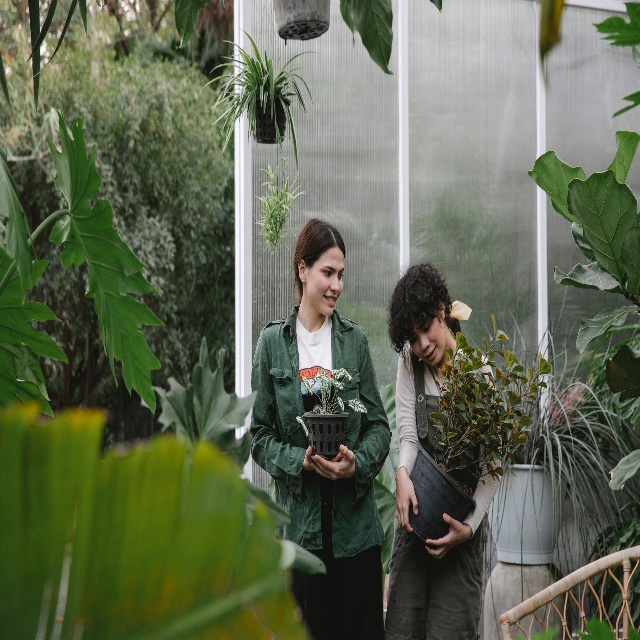Sin_guantes: (425, 513, 469, 560), (310, 444, 355, 481), (395, 470, 418, 534), (305, 446, 343, 472)
